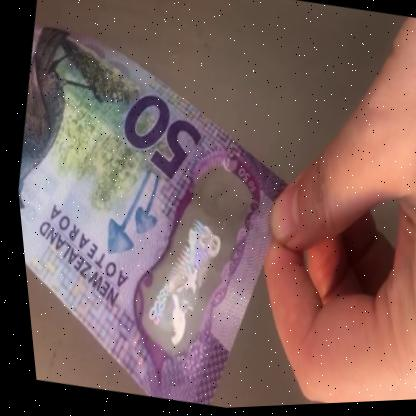50B: (125, 171, 245, 360)
